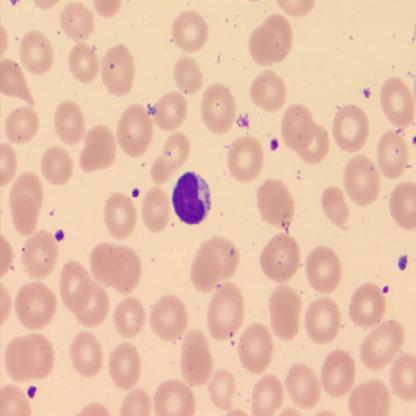Lymphocyte: (172, 170, 210, 224)
